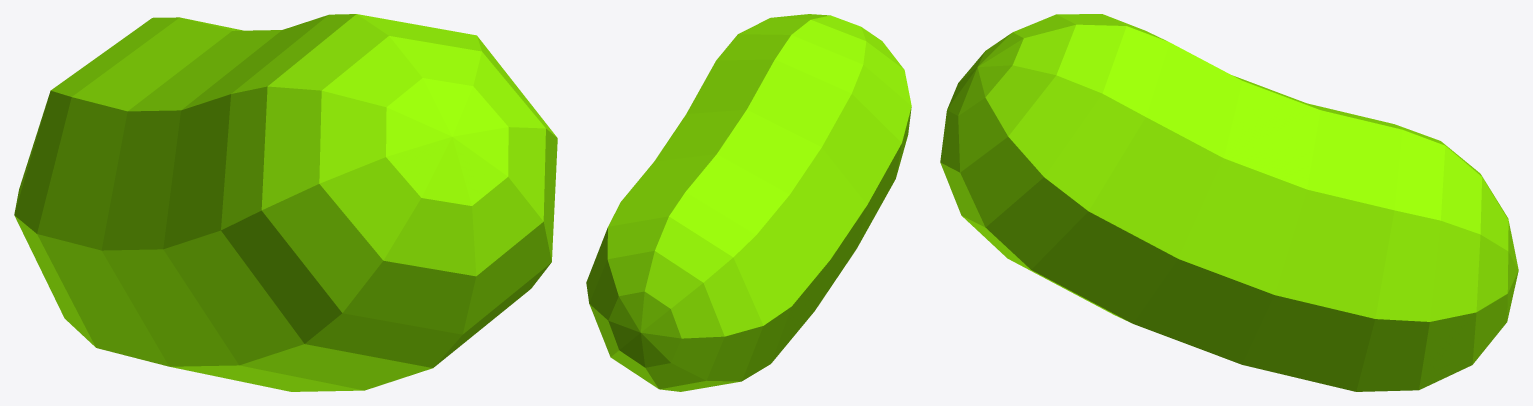
The model's file is Bacteria_Neon.FBX.
3 views of the same model, side by side, from view 1: azimuth 30°, elevation 25°; view 2: azimuth 150°, elevation 25°; view 3: azimuth 270°, elevation 25° (orthographic). The views are drawn at different scales.
Parts seen in each view (by area): view 1: Capsule001; view 2: Capsule001; view 3: Capsule001.
Part boxes in pixels (x1,y1,x2,y2): Capsule001: (14, 14, 557, 391); Capsule001: (586, 14, 911, 391); Capsule001: (940, 14, 1518, 391).
Bounding box in the file's own units: 120 × 241 × 166.
